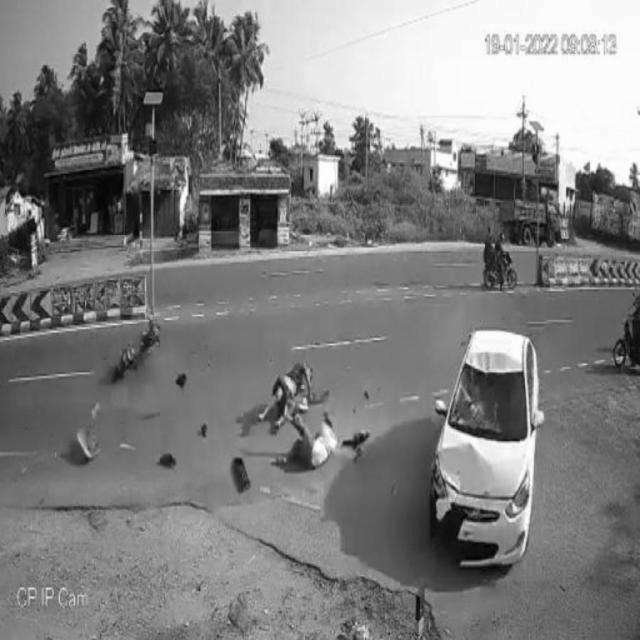person: (261, 362, 317, 426), (284, 414, 340, 469)
vehicle: (426, 328, 540, 569), (484, 225, 518, 289), (611, 295, 640, 370)
